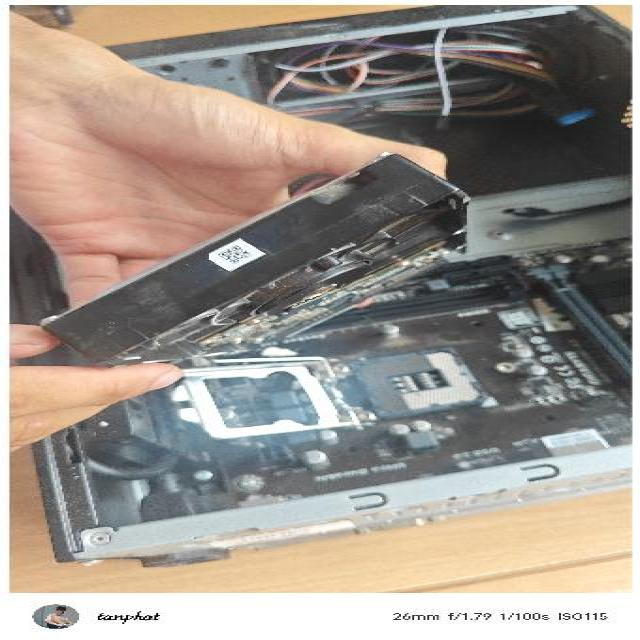DISK: (33, 146, 473, 374)
